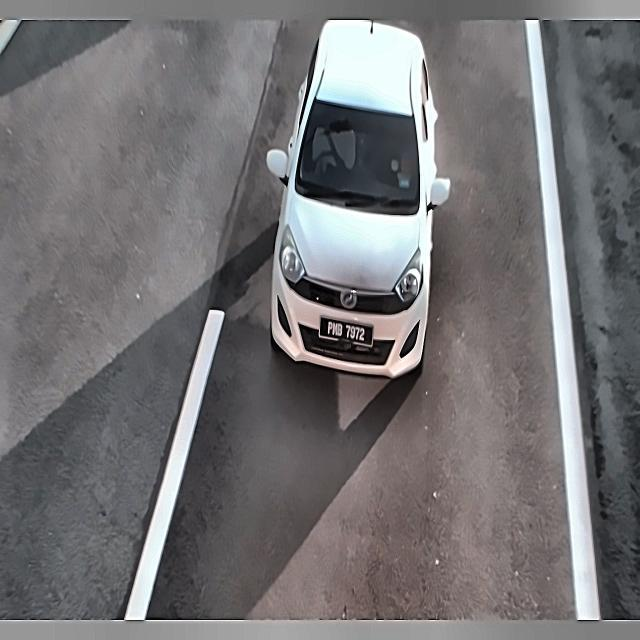car: (313, 309, 378, 353)
